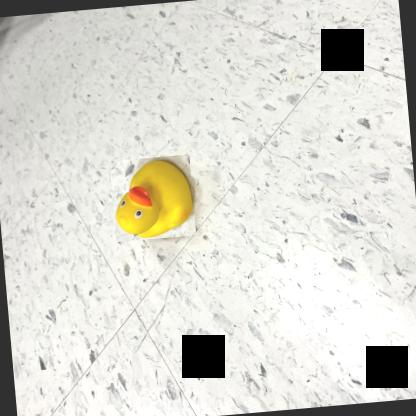duck: (110, 154, 197, 242)
